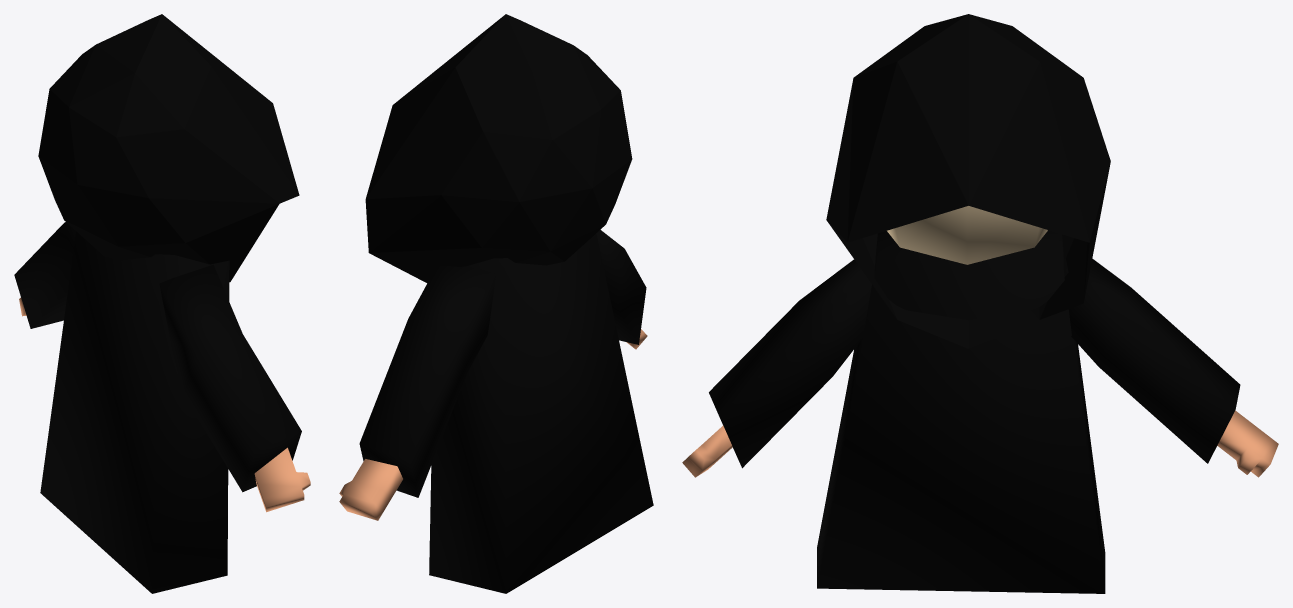
File: mago sinames.fbx
3 renders of one model, left to right at view 1: azimuth 30°, elevation 25°; view 2: azimuth 150°, elevation 25°; view 3: azimuth 270°, elevation 25°, orthographic. The views are drawn at different scales.
Visible parts, largest first — view 1: Icosphere; view 2: Icosphere; view 3: Icosphere.
Part boxes in pixels (box(x1,y1,x2,y2)): Icosphere: box(14, 14, 310, 593); Icosphere: box(339, 14, 653, 593); Icosphere: box(682, 14, 1278, 593).
Size of the model in its own units: 4.15 by 9.44 by 8.87.
